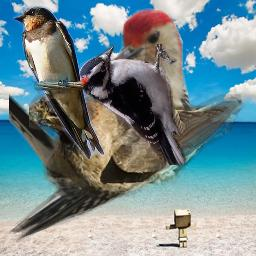Swallow: (29, 84, 245, 201), (12, 6, 104, 159)
Woodpecker: (9, 8, 191, 248), (76, 44, 186, 165)
